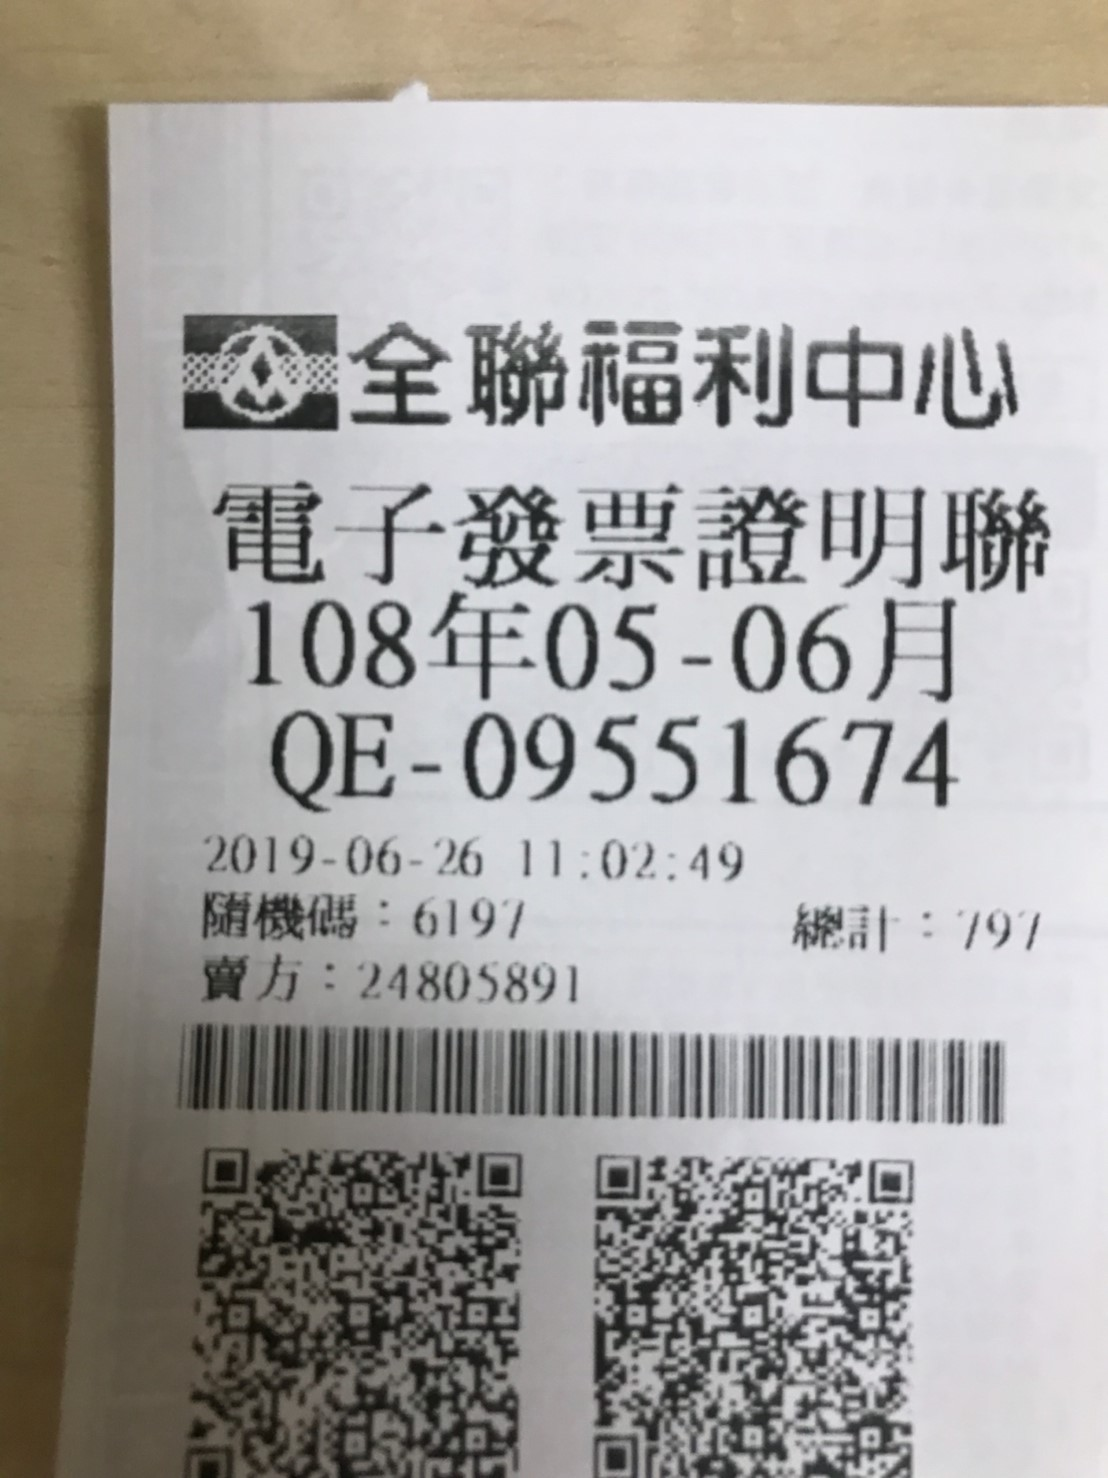Date_New: (242, 591, 963, 708)
Number_New: (457, 713, 963, 812)
